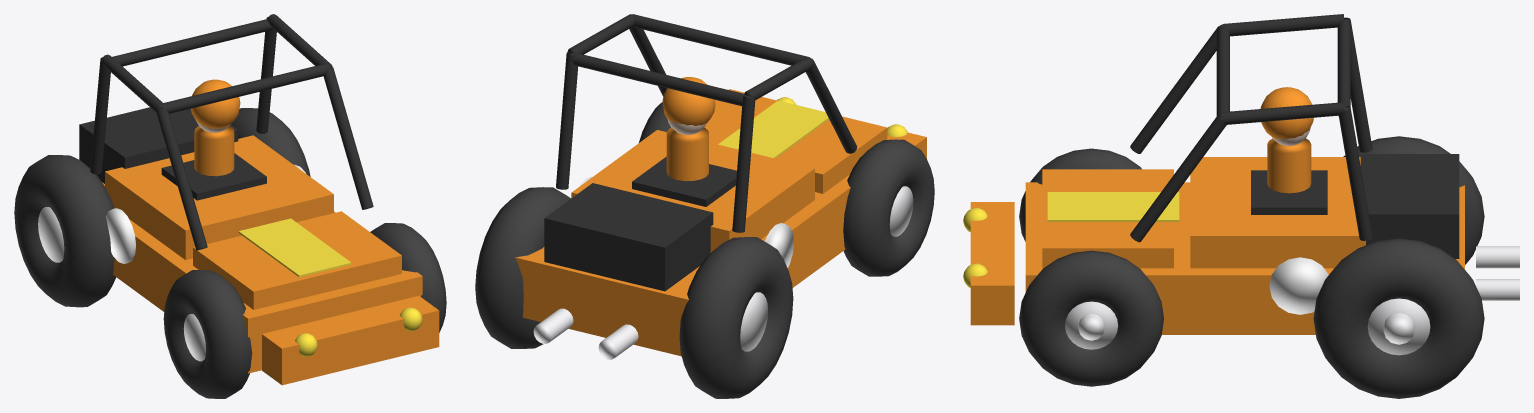
The model's file is buggy.glb.
3 views of the same model, side by side, from view 1: azimuth 30°, elevation 25°; view 2: azimuth 150°, elevation 25°; view 3: azimuth 270°, elevation 25° (orthographic). The views are drawn at different scales.
Parts seen in each view (by area): view 1: chasis, rueda_tras_izq, rueda_del_izq, rueda_del_der, rueda_tras_der; view 2: chasis, rueda_tras_izq, rueda_del_izq, rueda_tras_der, rueda_del_der; view 3: chasis, rueda_tras_der, rueda_del_der, rueda_tras_izq, rueda_del_izq.
Part boxes in pixels (left/top/right/bottom): chasis: left=79, top=14, right=439, bottom=385; rueda_tras_izq: left=14, top=155, right=116, bottom=307; rueda_del_izq: left=163, top=270, right=252, bottom=398; rueda_del_der: left=370, top=223, right=446, bottom=332; rueda_tras_der: left=231, top=108, right=310, bottom=176; chasis: left=515, top=14, right=926, bottom=359; rueda_tras_izq: left=679, top=237, right=793, bottom=398; rueda_del_izq: left=843, top=139, right=934, bottom=276; rueda_tras_der: left=475, top=187, right=570, bottom=348; rueda_del_der: left=639, top=102, right=671, bottom=142; chasis: left=963, top=14, right=1519, bottom=334; rueda_tras_der: left=1313, top=238, right=1484, bottom=398; rueda_del_der: left=1019, top=250, right=1163, bottom=386; rueda_tras_izq: left=1343, top=136, right=1484, bottom=264; rueda_del_izq: left=1019, top=148, right=1141, bottom=241.
Size of the model in its own units: 2.77 by 2.88 by 5.07.
